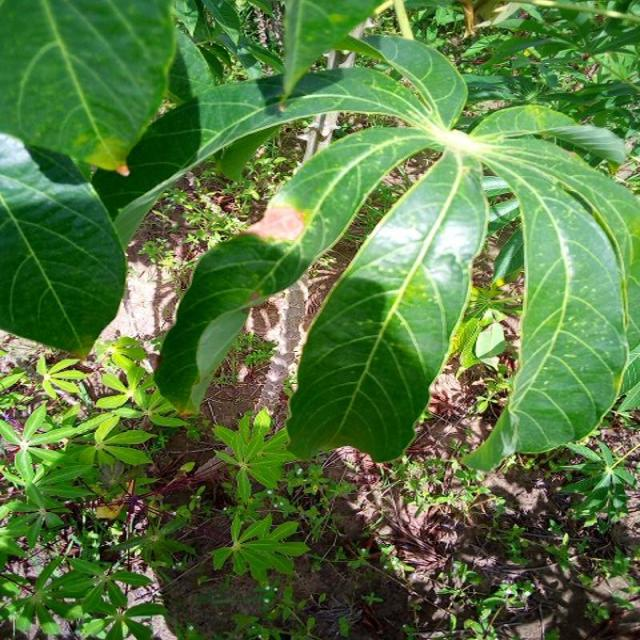cassava leaf: (152, 124, 441, 418), (284, 143, 489, 464), (461, 131, 638, 473), (0, 0, 177, 174), (0, 130, 127, 360)
